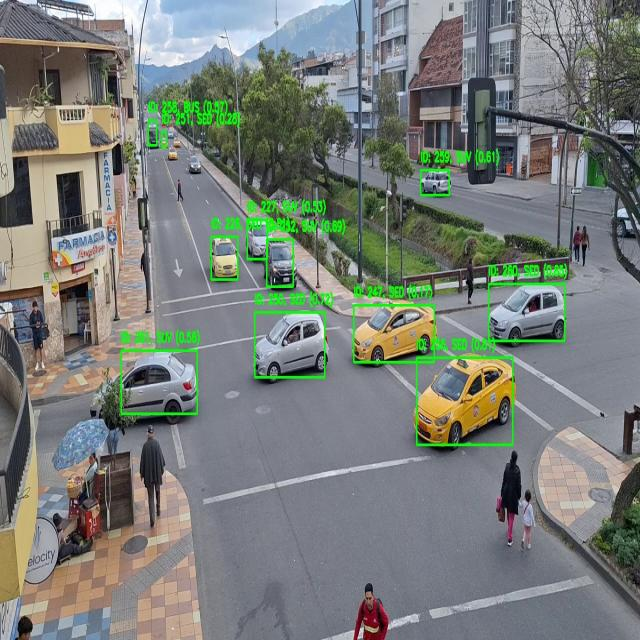BUS: (147, 121, 159, 148)
SED: (414, 358, 515, 443), (122, 351, 198, 420), (255, 312, 329, 379), (354, 302, 435, 361), (489, 282, 565, 343), (210, 236, 239, 280), (90, 393, 101, 418), (168, 149, 178, 160)
SUV: (265, 244, 296, 286), (246, 218, 266, 257), (421, 171, 449, 193), (189, 156, 201, 173)
